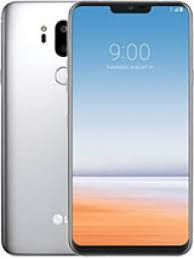lg: (65, 1, 189, 256)
